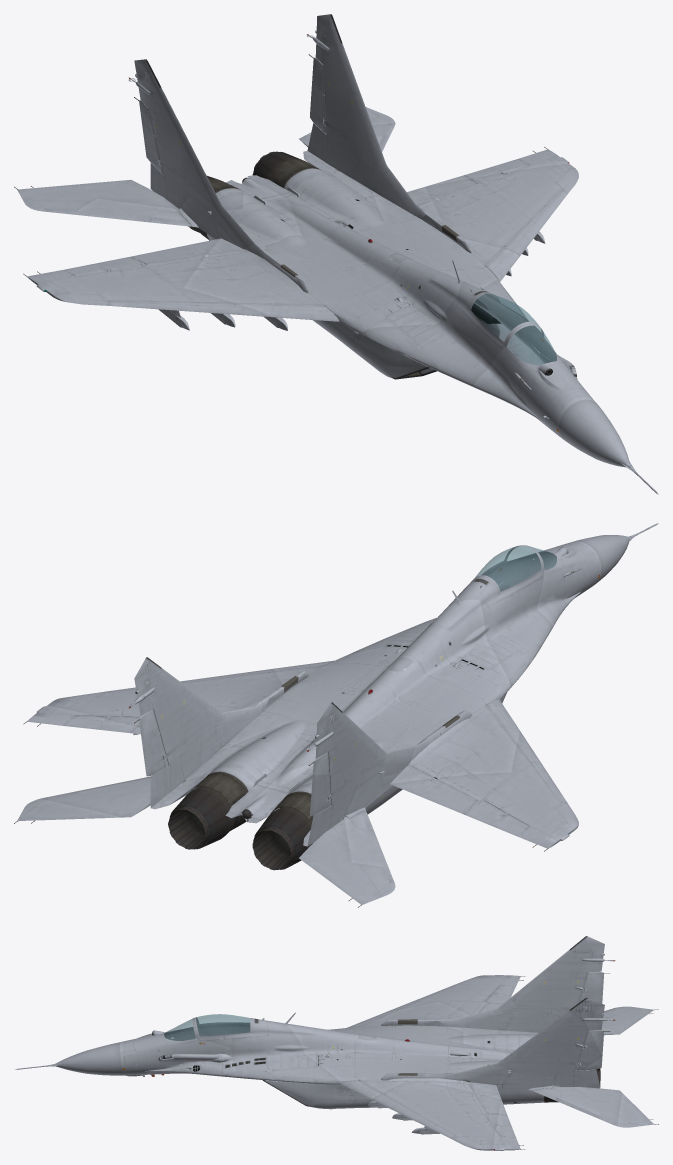
The model's file is MiG-29.obj.
3 views of the same model, one above another, from view 1: azimuth 30°, elevation 25°; view 2: azimuth 150°, elevation 25°; view 3: azimuth 270°, elevation 25° (orthographic). The views are drawn at different scales.
Parts seen in each view (by area): view 1: body, stab_R, canopy, flap_R, flap_L, rudder_L, aileron_R, stab_L, rudder_R, aileron_L; view 2: body, stab_R, stab_L, canopy, flap_R, rudder_L, aileron_R, rudder_R, aileron_L; view 3: body, stab_L, canopy, stab_R, rudder_L, flap_L, rudder_R, aileron_L, aileron_R.
Boxes of the visible parts, box(x1,y1,x2,y2) form: body: box(14, 14, 658, 494); stab_R: box(17, 179, 191, 226); canopy: box(471, 294, 556, 364); flap_R: box(131, 238, 243, 264); flap_L: box(407, 175, 476, 205); rudder_L: box(308, 54, 326, 134); aileron_R: box(64, 257, 142, 275); stab_L: box(299, 107, 395, 151); rudder_R: box(134, 97, 163, 174); aileron_L: box(464, 159, 528, 183); body: box(14, 523, 658, 907); stab_R: box(299, 811, 395, 904); stab_L: box(17, 776, 150, 820); canopy: box(475, 545, 556, 591); flap_R: box(390, 765, 477, 814); rudder_L: box(134, 709, 168, 776); aileron_R: box(464, 800, 529, 836); rudder_R: box(308, 752, 331, 815); aileron_L: box(64, 715, 139, 732); body: box(15, 936, 658, 1150); stab_L: box(533, 1086, 654, 1127); canopy: box(164, 1014, 250, 1040); stab_R: box(601, 1006, 653, 1035); rudder_L: box(575, 1030, 610, 1070); flap_L: box(468, 1082, 507, 1115); rudder_R: box(578, 971, 609, 1003); aileron_L: box(485, 1114, 515, 1137); aileron_R: box(485, 985, 515, 1003).
Bounding box in the file's own units: 11.13 × 3.82 × 17.32.
2 materials, 1 textured.
